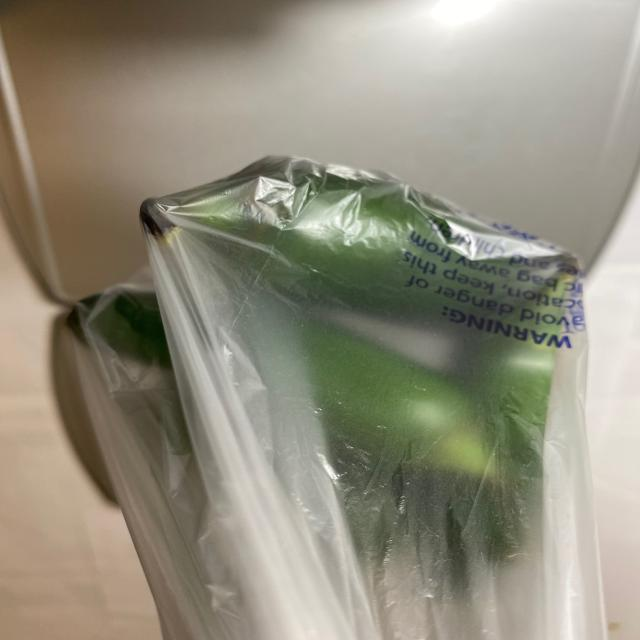chilli: (49, 152, 607, 580)
